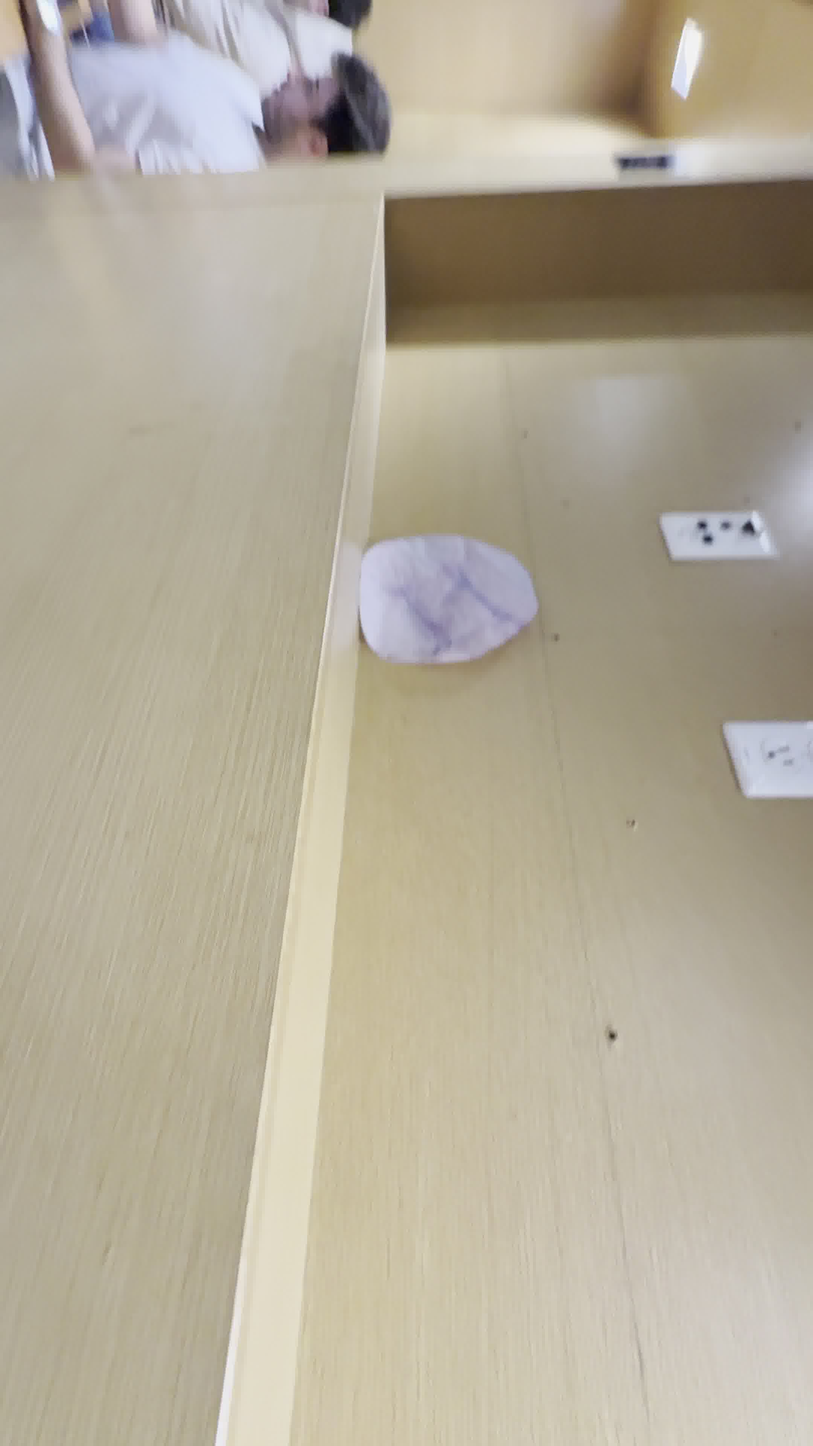Target: (357, 532, 535, 664)
